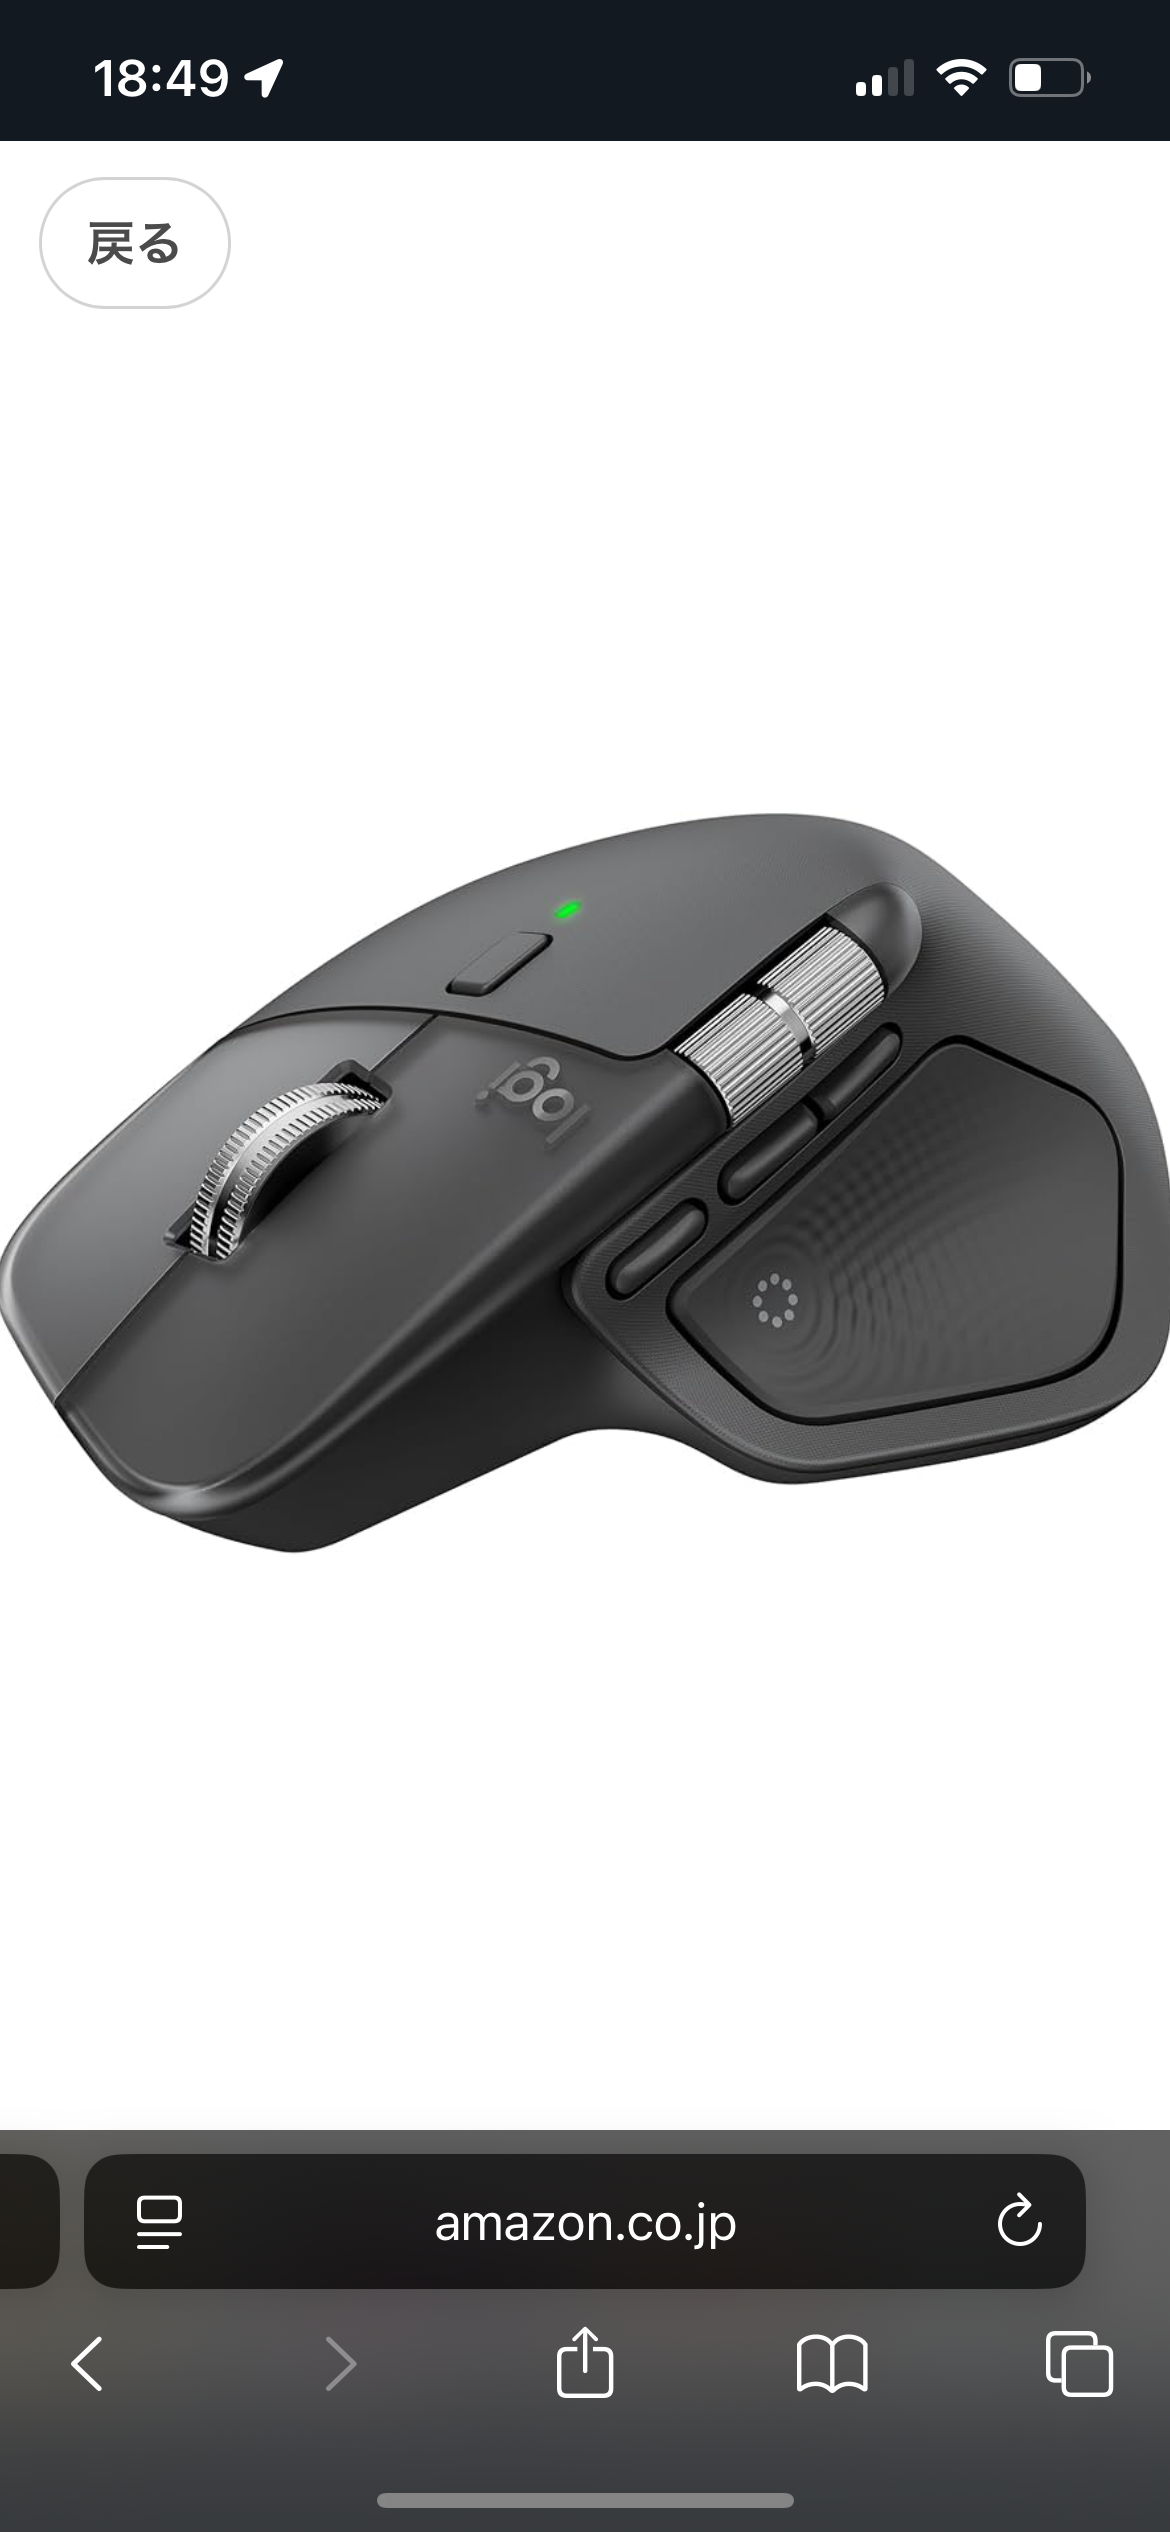mouse: (492, 793, 679, 1520)
